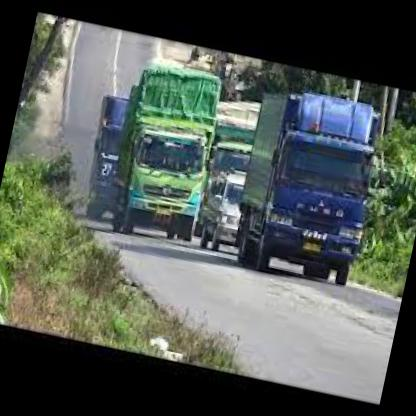truck: (252, 127, 383, 295), (114, 120, 218, 255)
